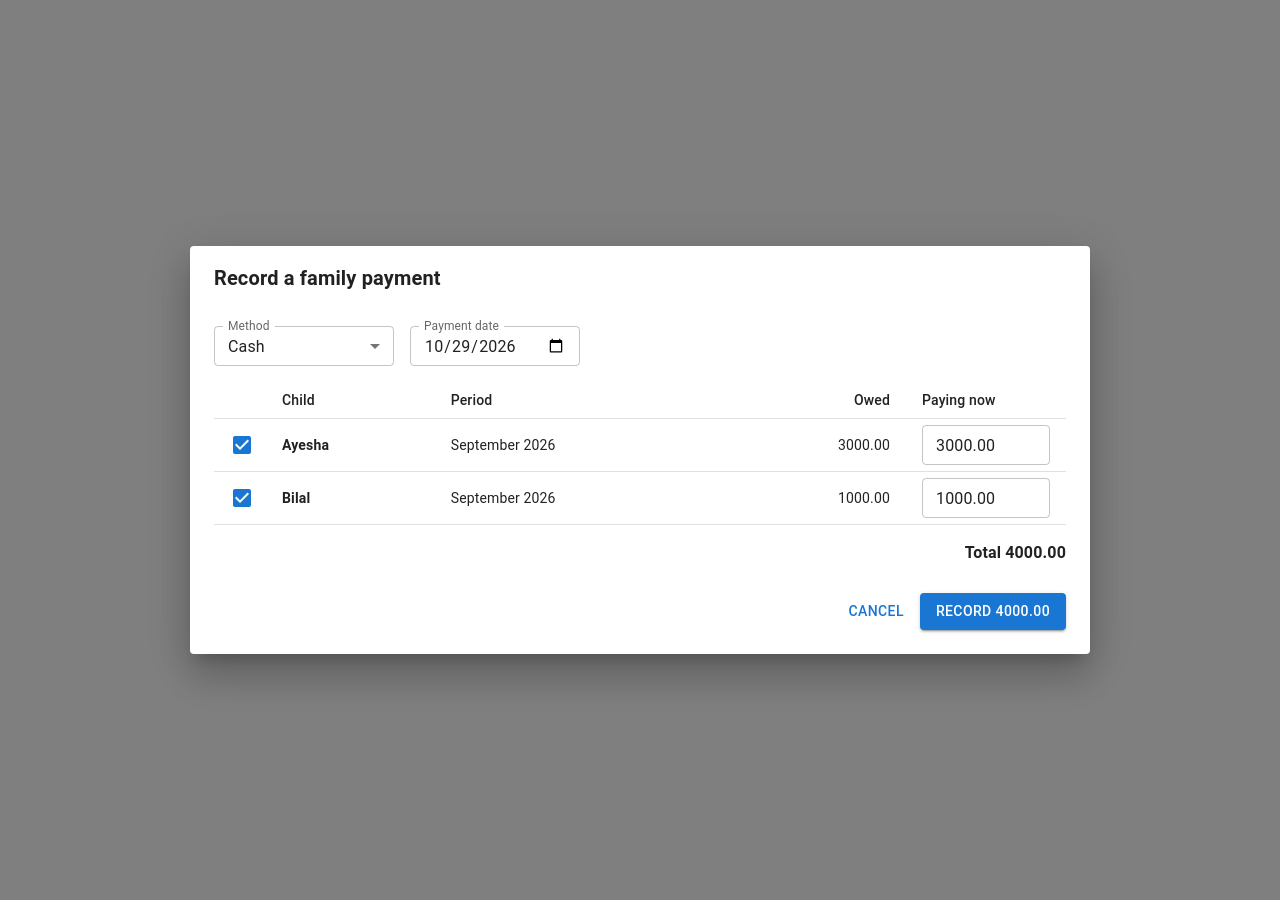
Test: FamilyPaymentDialog › starts with every unpaid voucher ticked at the amount owed, and records the total
Expected: the number field named "Amount for Ayesha September 2026" holds "3000", [922, 425, 1050, 465]
Click the button "Record 4000.00". click: point(993, 612)
box: [920, 593, 1066, 630]
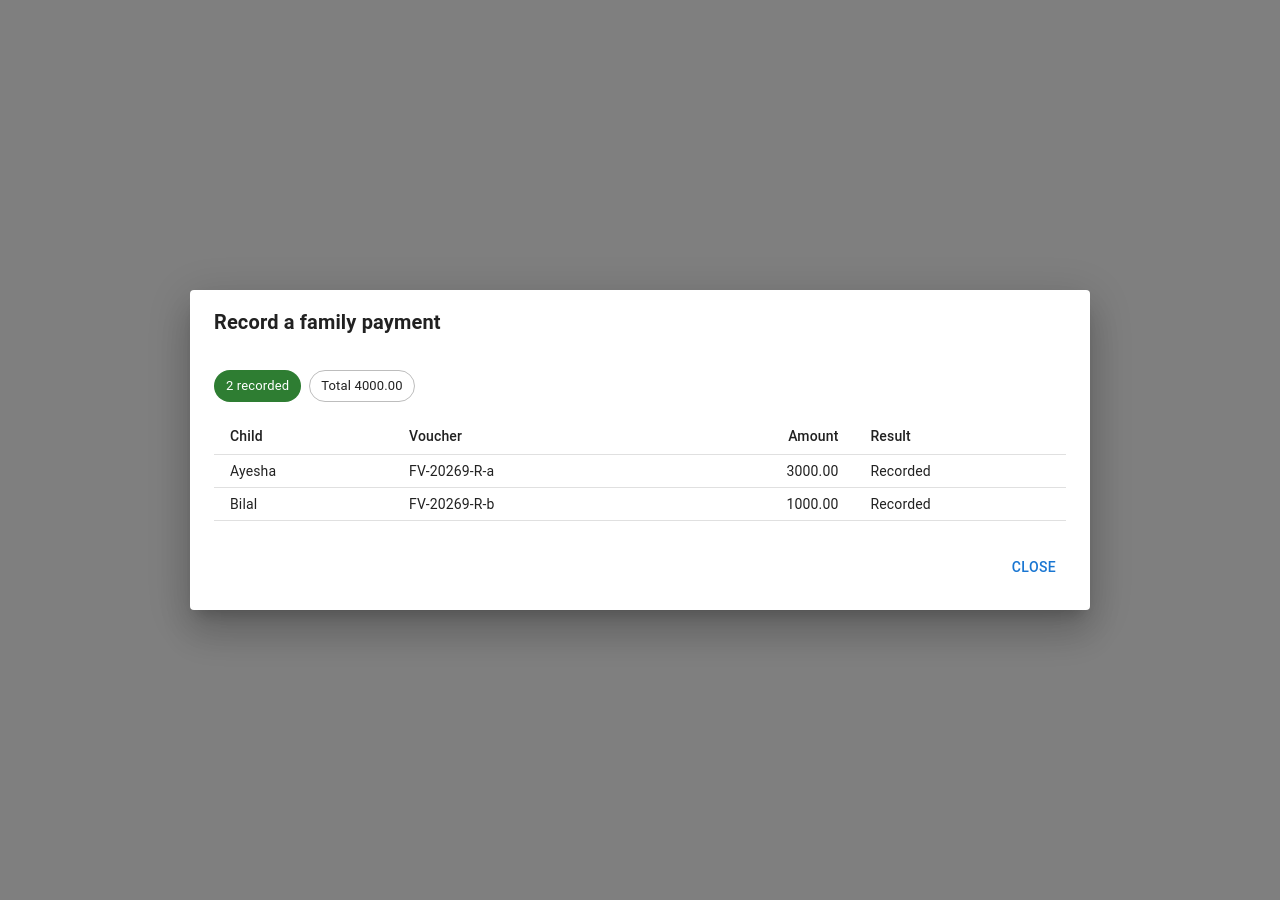
Now the text "2 recorded" is shown, box [226, 378, 289, 394]
